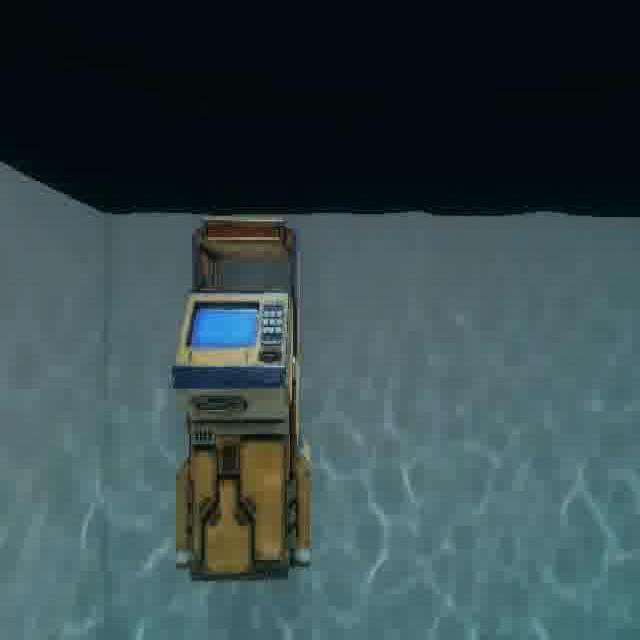Control Panel: (158, 206, 331, 605)
